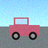vehicle: (9, 17, 39, 40)
